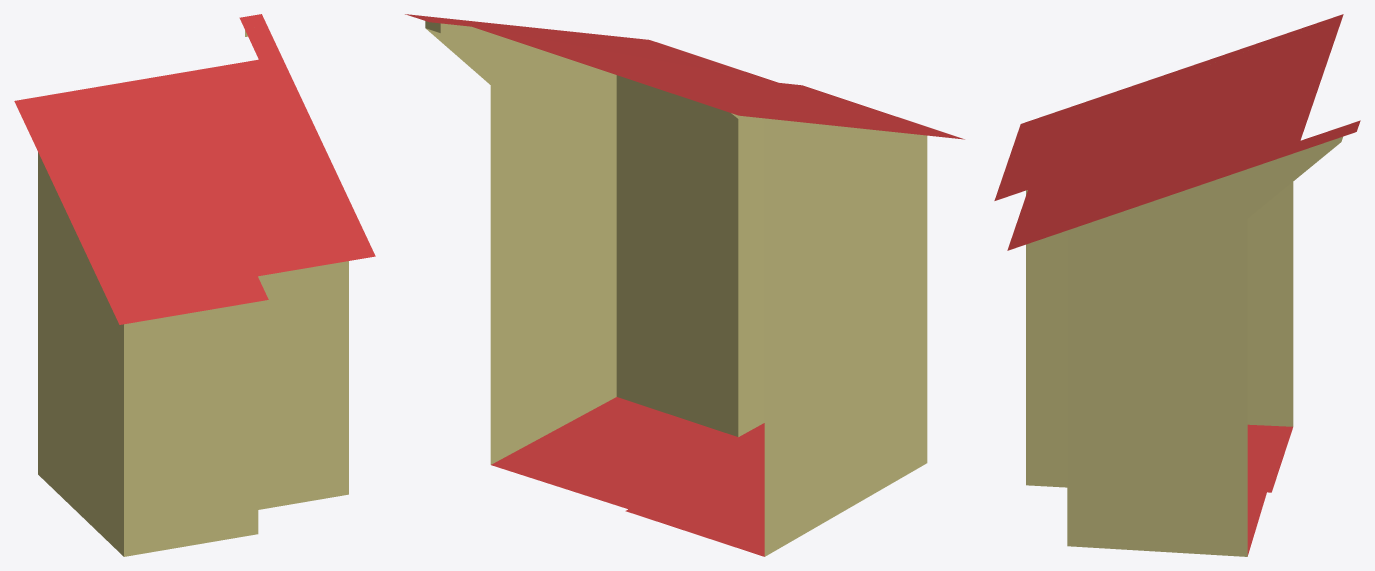
3 views of the same model, side by side, from view 1: azimuth 30°, elevation 25°; view 2: azimuth 150°, elevation 25°; view 3: azimuth 270°, elevation 25° (orthographic). The views are drawn at different scales.
Bounding box in the file's own units: 10.12 × 9.68 × 12.71.
